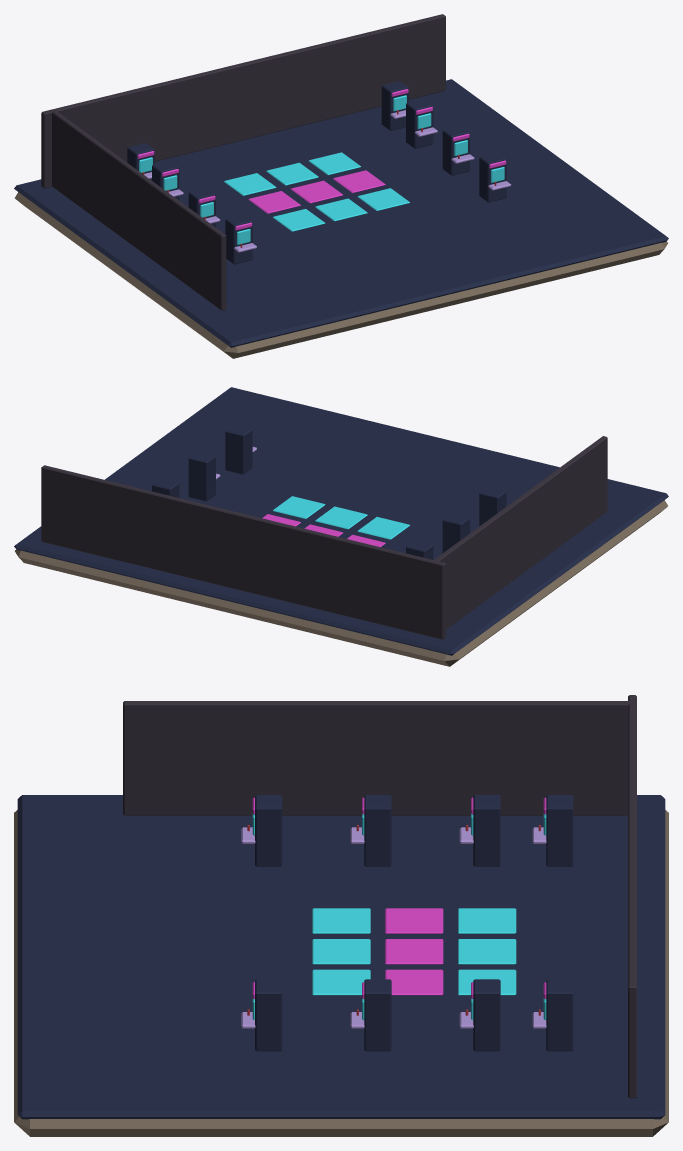
Rendered from world-arcade.glb.
3 renders of one model, top to bottom at view 1: azimuth 30°, elevation 25°; view 2: azimuth 150°, elevation 25°; view 3: azimuth 270°, elevation 25°, orthographic. The views are drawn at different scales.
Parts seen in each view (by area): view 1: terrain-top, rear-wall, side-wall, terrain-stratum, arcade-body.006, arcade-body.005, arcade-body.007, arcade-body.001, arcade-body.008, dance-tile.002, dance-tile.003, dance-tile (+6 smaller); view 2: terrain-top, rear-wall, side-wall, terrain-stratum, arcade-body.006, arcade-body.005, arcade-body.002, arcade-body.001, dance-tile.003, dance-tile, dance-tile.006; view 3: terrain-top, side-wall, terrain-stratum, rear-wall, arcade-body.006, arcade-body.008, arcade-body.005, arcade-body.007, arcade-body.001, arcade-body.002, arcade-body.004, arcade-body.003 (+9 smaller).
Boxes of the visible parts, bbox=[...] form: terrain-top: bbox=[14, 79, 668, 347]; rear-wall: bbox=[41, 14, 445, 188]; side-wall: bbox=[52, 110, 226, 310]; terrain-stratum: bbox=[14, 192, 667, 358]; arcade-body.006: bbox=[442, 125, 469, 175]; arcade-body.005: bbox=[479, 152, 506, 202]; arcade-body.007: bbox=[406, 99, 433, 148]; arcade-body.001: bbox=[225, 214, 252, 264]; arcade-body.008: bbox=[381, 81, 408, 130]; dance-tile.002: bbox=[224, 173, 276, 195]; dance-tile.003: bbox=[315, 198, 367, 221]; dance-tile: bbox=[273, 209, 325, 231]; terrain-top: bbox=[14, 387, 668, 655]; rear-wall: bbox=[41, 465, 445, 639]; side-wall: bbox=[433, 436, 607, 629]; terrain-stratum: bbox=[15, 500, 667, 666]; arcade-body.006: bbox=[188, 451, 215, 501]; arcade-body.005: bbox=[225, 424, 252, 474]; arcade-body.002: bbox=[442, 513, 469, 552]; arcade-body.001: bbox=[479, 486, 506, 526]; dance-tile.003: bbox=[315, 506, 367, 529]; dance-tile: bbox=[357, 517, 409, 539]; dance-tile.006: bbox=[273, 496, 325, 518]; terrain-top: bbox=[17, 795, 665, 1119]; side-wall: bbox=[123, 701, 630, 815]; terrain-stratum: bbox=[14, 810, 668, 1136]; rear-wall: bbox=[628, 695, 636, 1098]; arcade-body.006: bbox=[364, 979, 391, 1051]; arcade-body.008: bbox=[546, 979, 573, 1051]; arcade-body.005: bbox=[255, 979, 282, 1051]; arcade-body.007: bbox=[473, 979, 500, 1051]; arcade-body.001: bbox=[255, 795, 282, 866]; arcade-body.002: bbox=[364, 795, 391, 866]; arcade-body.004: bbox=[546, 795, 573, 866]; arcade-body.003: bbox=[473, 795, 500, 866].
Size of the model in its own units: 21 by 4.29 by 18.
